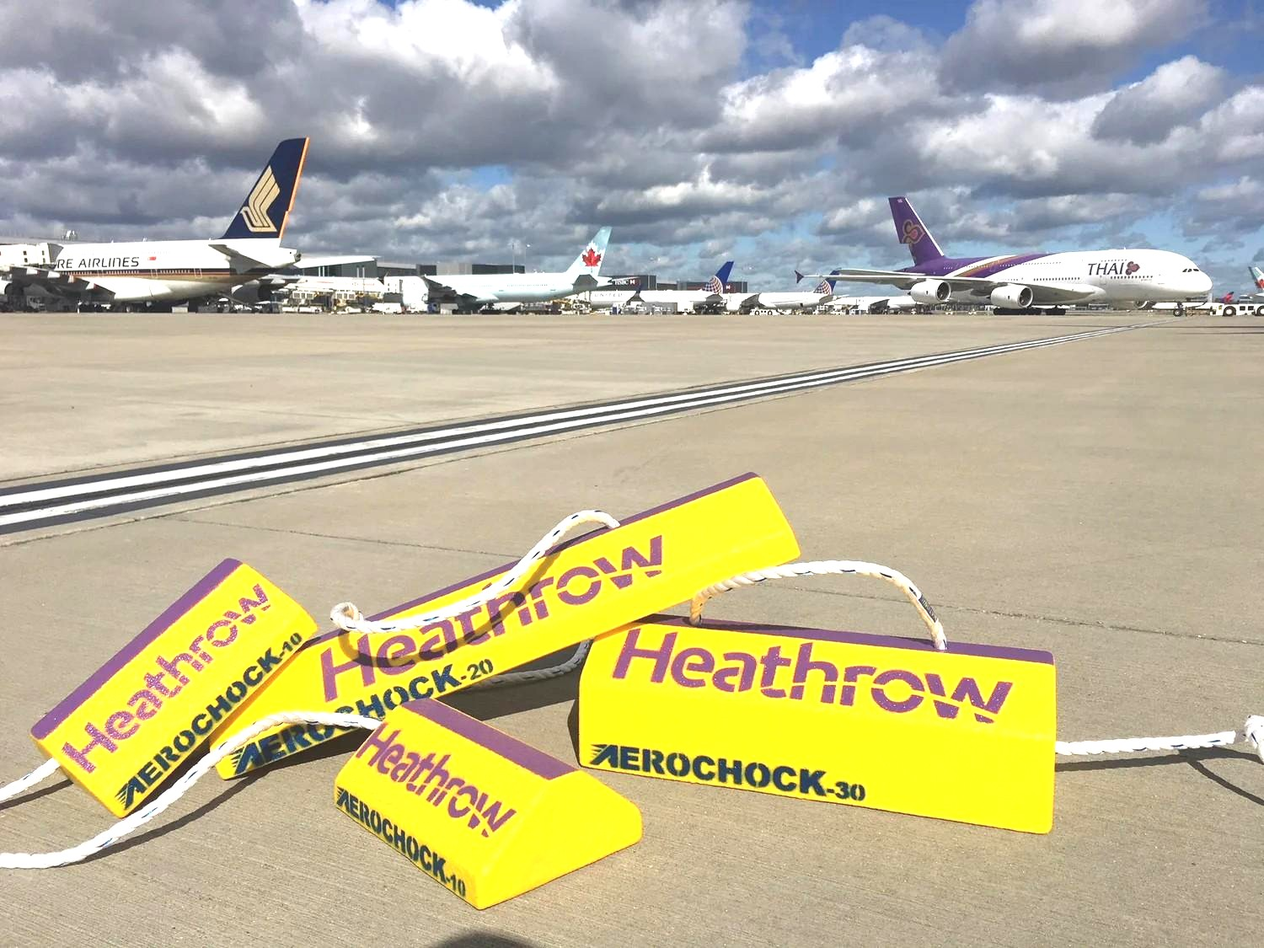chock: (196, 467, 802, 780), (574, 601, 1059, 835), (23, 550, 319, 820), (331, 696, 644, 914)
